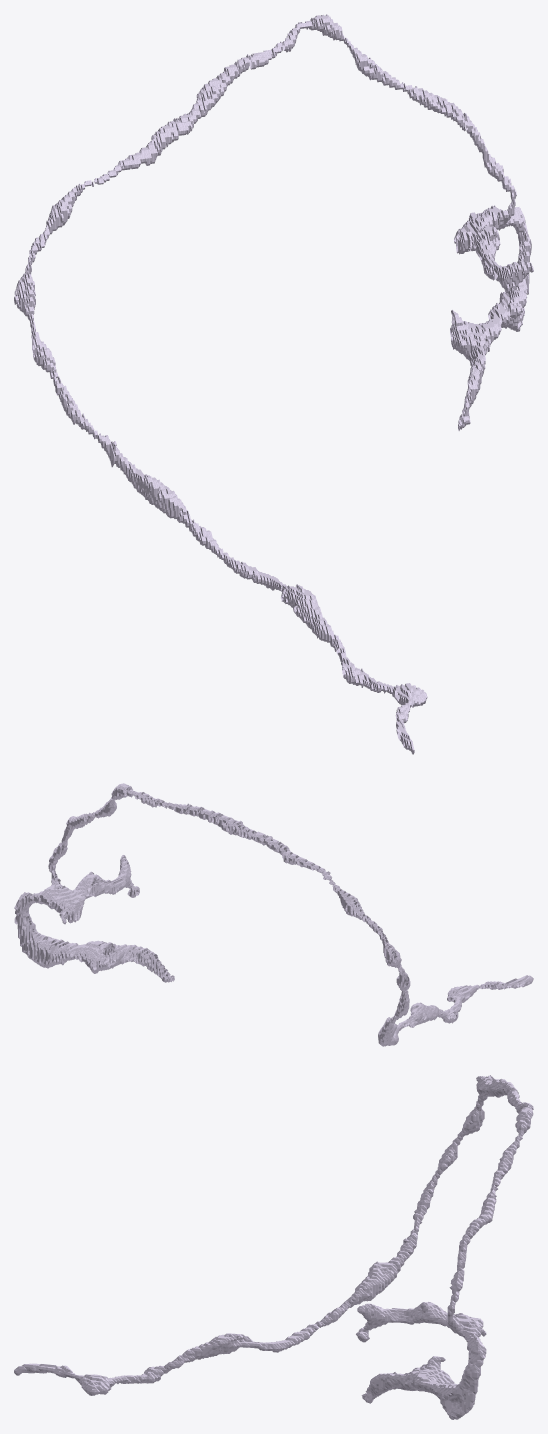
Rendered from SVV_RMHL.gltf.
3 views of the same model, one above another, from view 1: azimuth 30°, elevation 25°; view 2: azimuth 150°, elevation 25°; view 3: azimuth 270°, elevation 25° (orthographic). The views are drawn at different scales.
Visible parts, largest first — view 1: RMHL; view 2: RMHL; view 3: RMHL.
Part boxes in pixels (box(x1,y1,x2,y2)): RMHL: box(14, 14, 533, 754); RMHL: box(14, 783, 533, 1046); RMHL: box(14, 1075, 533, 1419).
Size of the model in its own units: 123992 by 102209 by 135946.
